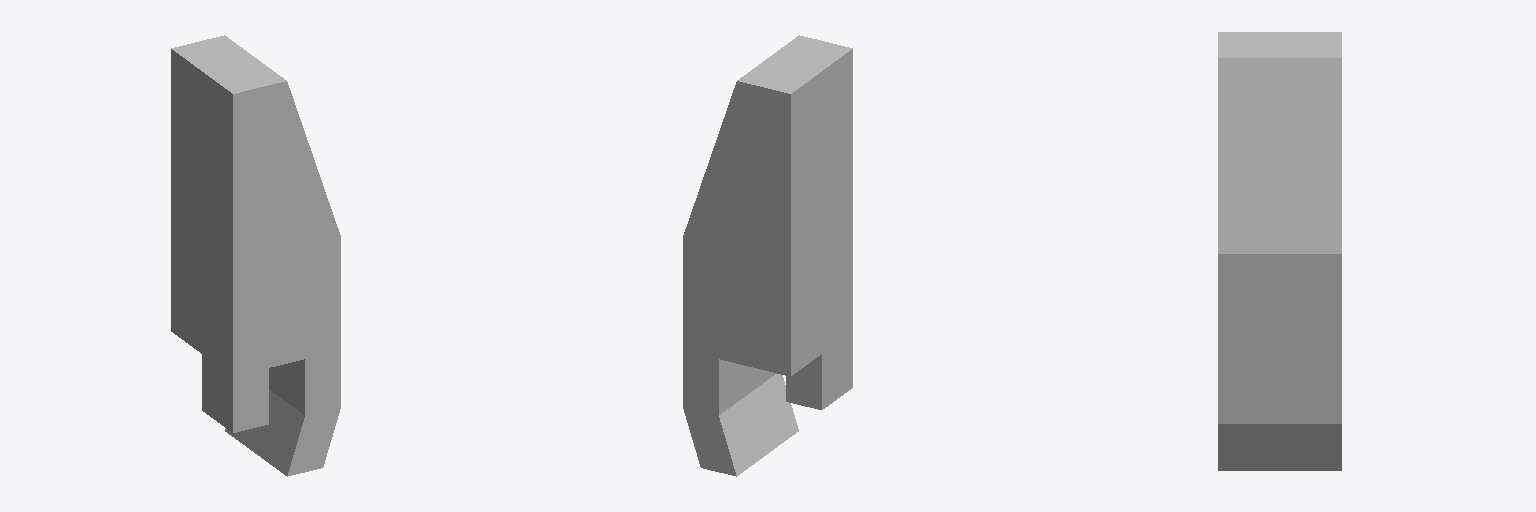
The model's file is playerLArm.obj.
3 views of the same model, side by side, from view 1: azimuth 30°, elevation 25°; view 2: azimuth 150°, elevation 25°; view 3: azimuth 270°, elevation 25° (orthographic).
Visible parts, largest first — view 1: ArmLeft1; view 2: ArmLeft1; view 3: ArmLeft1.
Part boxes in pixels (x1,y1,x2,y2): ArmLeft1: (171,35,340,476); ArmLeft1: (683,35,852,476); ArmLeft1: (1218,32,1341,470).
Bounding box in the file's own units: 2 × 7 × 2.